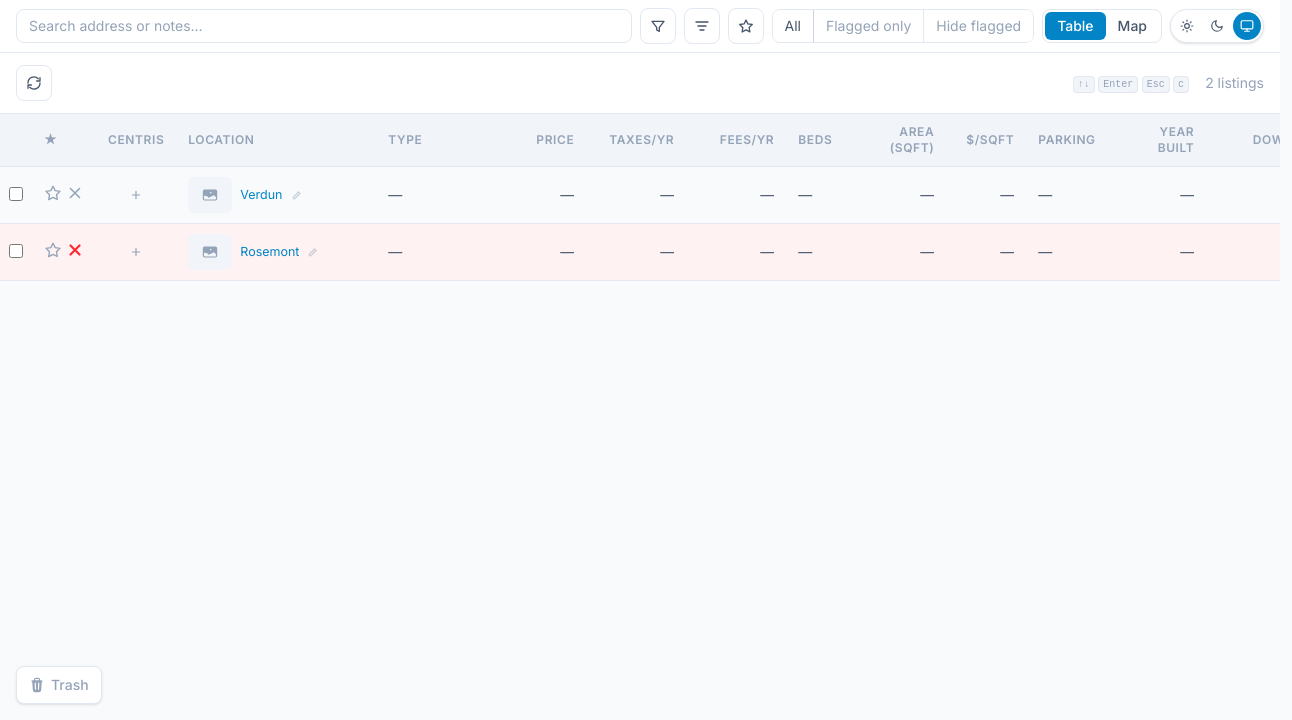
Scenario: / filters apply to both views › applies filters to the table view
Expected: the link "Verdun" is shown, 240,187 -> 282,203
Expected: the link "Rosemont" is shown, 240,244 -> 300,260
Click the radio button labelled "Hide flagged".
click(979, 26)  # box 924,10 -> 1033,42
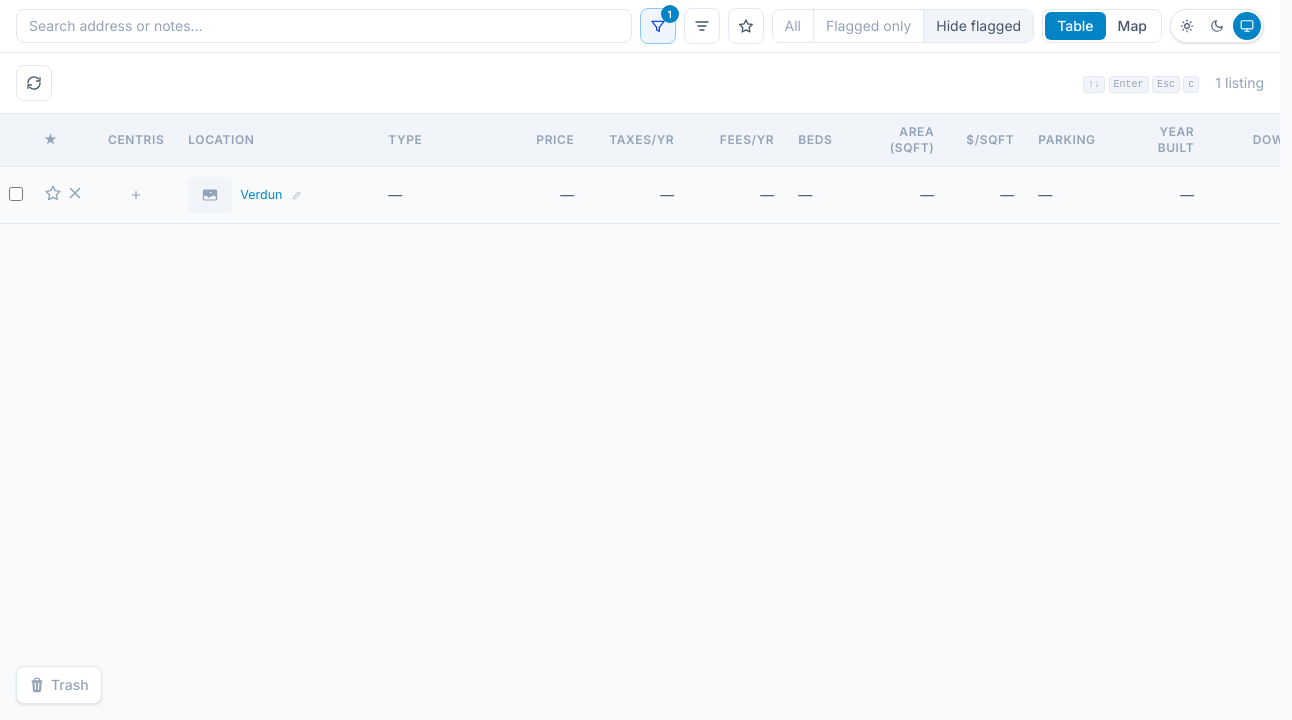
Expected: the link "Verdun" is shown, 240,187 -> 282,203
Result: the link "Rosemont" is gone
